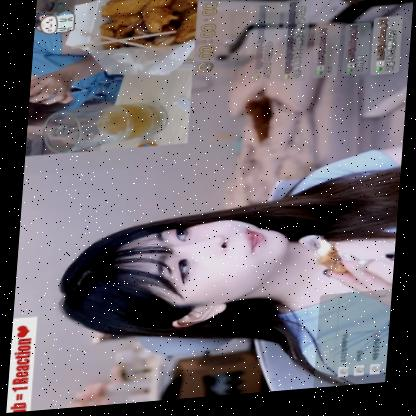streamer: (54, 148, 406, 411), (27, 24, 128, 154)
